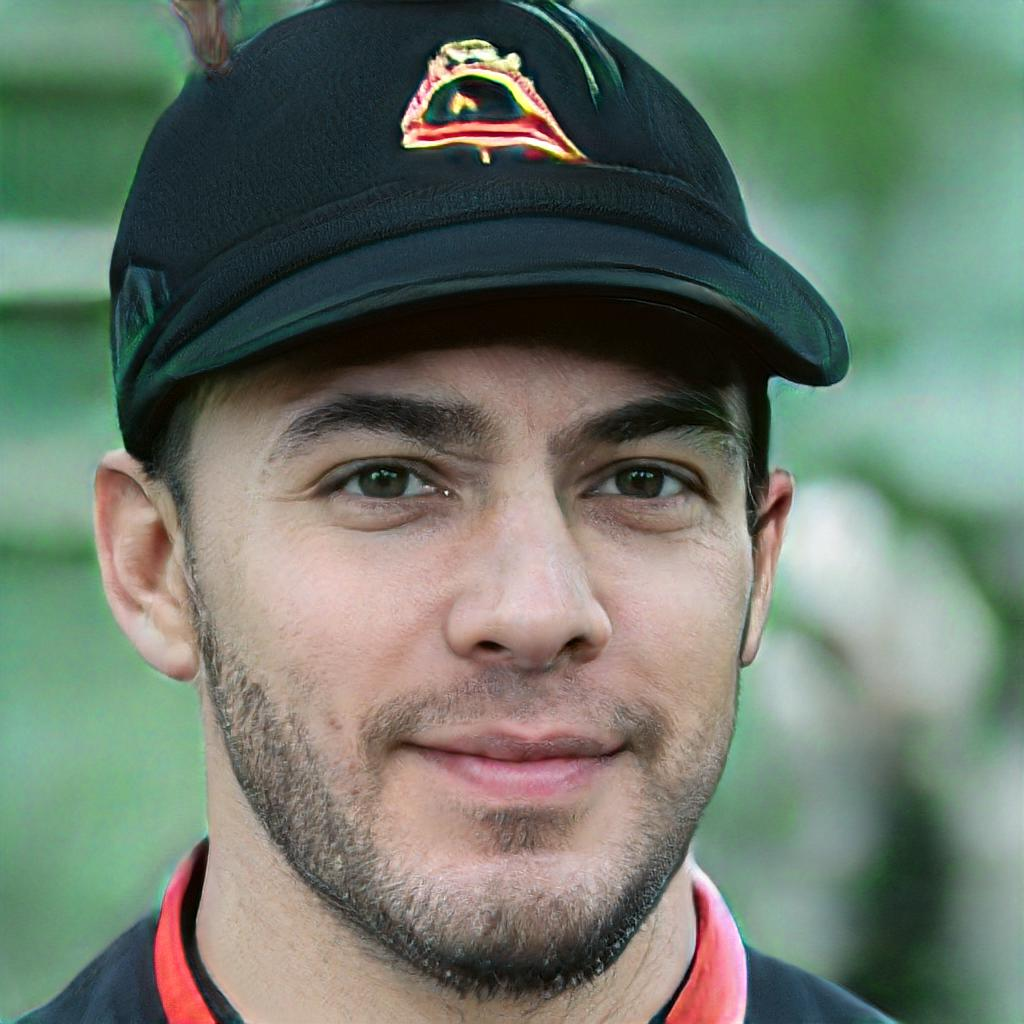face: (189, 347, 753, 981)
